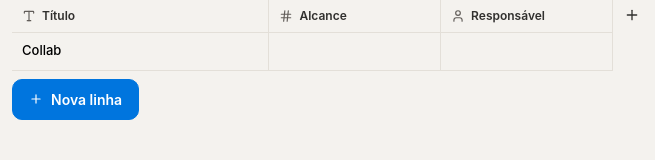
Test: TabelaDaBase › Esc cancela sem gravar
The image size is (655, 160).
Click the cell named "Título, linha 1" at (141, 52), box [12,32,270,70]
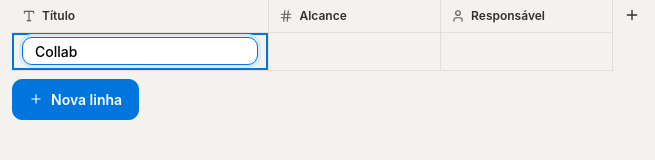
Replace the text in the field named "Editar Título" with "Outro" at (140, 51), box [22,37,258,65]
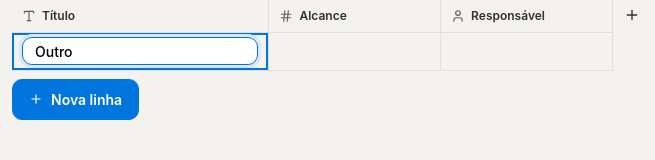
Press Escape in the field named "Editar Título", box [22,37,258,65]
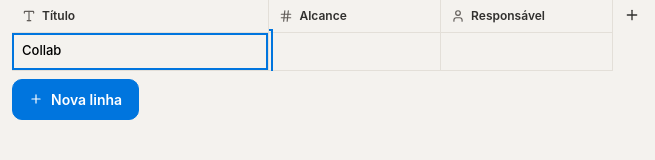
Result: the text "Collab" is shown at [22,42,61,58]
